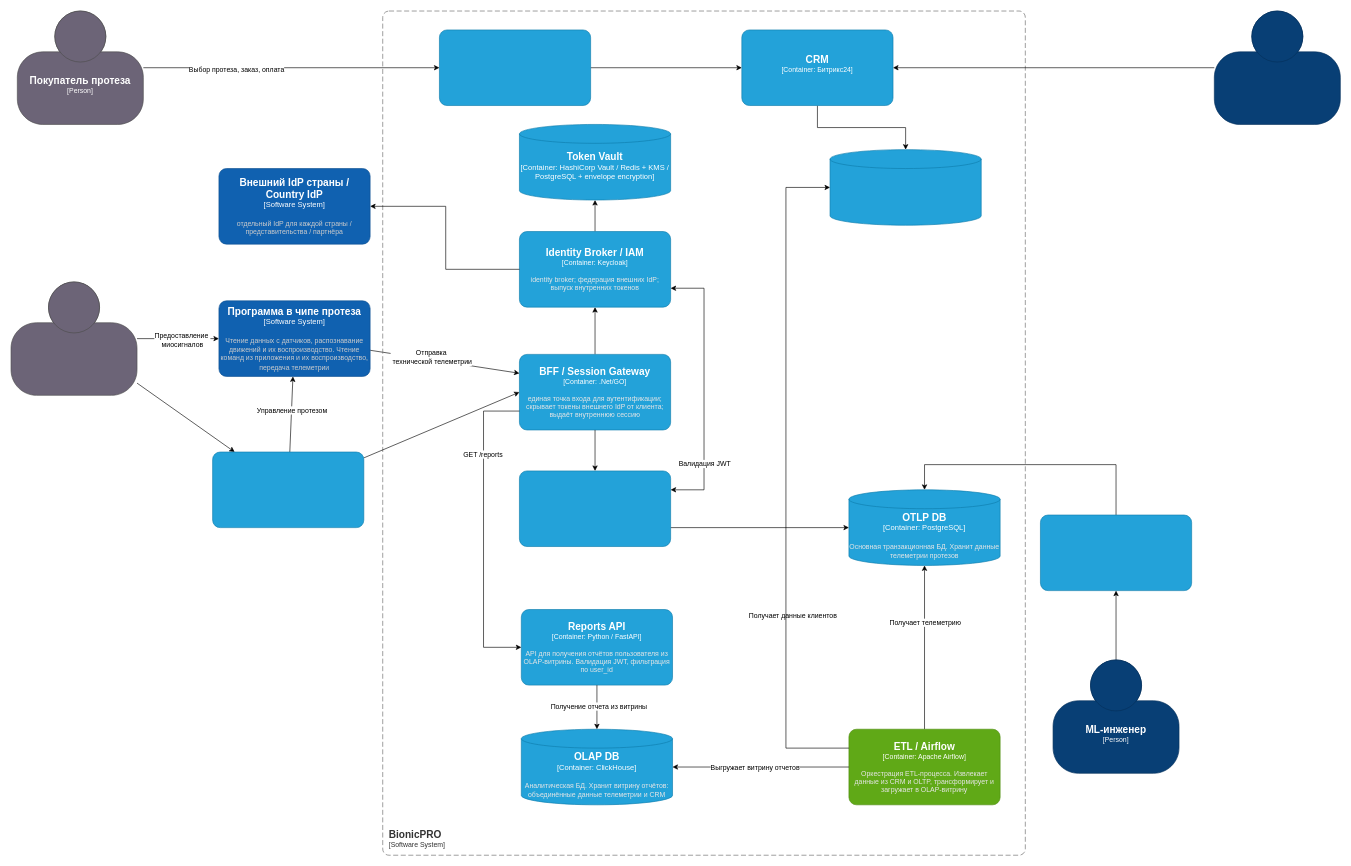
The diagram is 1351 pixels wide and 866 high, and some of its shapes have lost their labels. Each missing label, with the centre of its shape:
"API [Container: e.g. SpringBoot, ElasticSearch, etc.]" goes at [595,508].
"cli tool [Container: e.g. SpringBoot, ElasticSearch, etc.]" goes at [1116,552].
"CRM DB [Container: e.g. Oracle Database 12]" goes at [905,187].
"Интернет-магазин [Container: Битрикс24]" goes at [515,67].
"Оператор производства [Person]" goes at [1277,67].
"Пилот протеза [Person] С этого человека считываются данные" goes at [73,338].
"Приложение для донастройки протеза [Container: iOD, Android]" goes at [288,489].
